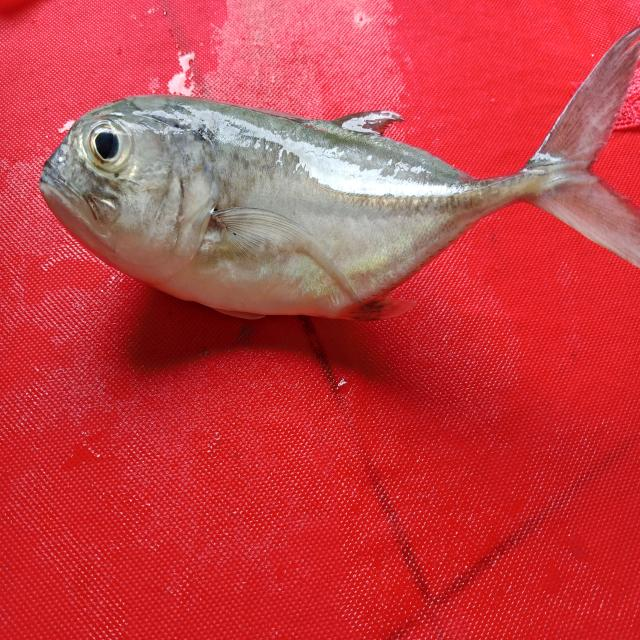ikan: (26, 17, 632, 344)
